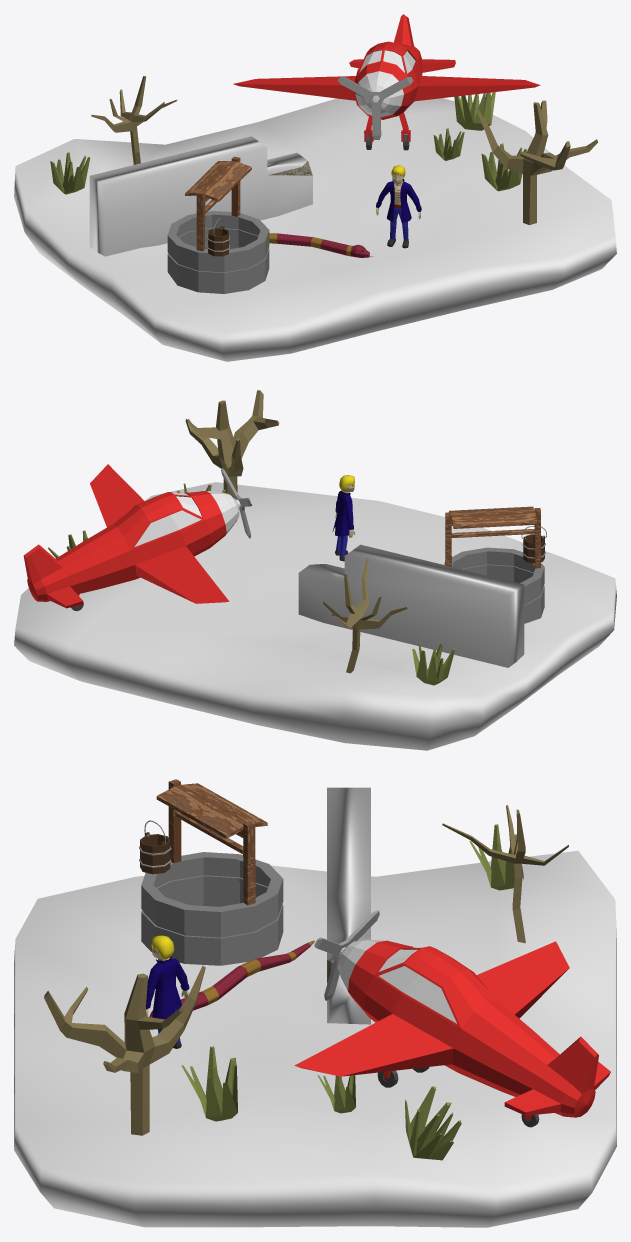
File: Wasteland.fbx
The picture shows the model from 3 angles, top to bottom: view 1: azimuth 30°, elevation 25°; view 2: azimuth 150°, elevation 25°; view 3: azimuth 270°, elevation 25°; orthographic projection. The views are drawn at different scales.
Parts seen in each view (by area): view 1: Cube.002, Plane, Cube.003, Cylinder.009, Circle.003, Cube.010, Cube.005, Cube.004, Cylinder.008, Cube.009, Cube, Cube.023 (+3 smaller); view 2: Cube.002, Plane, Cylinder.009, Cube.003, Circle.003, Cube.010, Cube.009, Cube.023; view 3: Cube.002, Cylinder.009, Cube.003, Plane, Circle.003, Cube.005, Cube, Cube.010, Cube.023, Cube.004, Circle.001, Cube.009 (+2 smaller).
Part boxes in pixels (x1=…): Cube.002: x1=14, y1=98, x2=616, y2=361; Plane: x1=89, y1=136, x2=312, y2=256; Cube.003: x1=167, y1=156, x2=269, y2=293; Cylinder.009: x1=233, y1=14, x2=540, y2=141; Circle.003: x1=476, y1=100, x2=597, y2=224; Cube.010: x1=91, y1=76, x2=177, y2=164; Cube.005: x1=454, y1=92, x2=495, y2=130; Cube.004: x1=269, y1=233, x2=373, y2=257; Cylinder.008: x1=338, y1=76, x2=413, y2=139; Cube.009: x1=50, y1=152, x2=90, y2=194; Cube: x1=481, y1=143, x2=526, y2=191; Cube.023: x1=376, y1=179, x2=421, y2=222; Cube.002: x1=14, y1=482, x2=616, y2=750; Plane: x1=298, y1=544, x2=524, y2=667; Cylinder.009: x1=23, y1=464, x2=240, y2=608; Cube.003: x1=444, y1=506, x2=544, y2=623; Circle.003: x1=185, y1=390, x2=279, y2=522; Cube.010: x1=323, y1=557, x2=407, y2=673; Cube.009: x1=412, y1=642, x2=455, y2=685; Cube.023: x1=332, y1=490, x2=353, y2=536; Cube.002: x1=14, y1=850, x2=616, y2=1227; Cylinder.009: x1=294, y1=940, x2=610, y2=1120; Cube.003: x1=141, y1=779, x2=283, y2=965; Plane: x1=327, y1=787, x2=370, y2=1024; Circle.003: x1=44, y1=965, x2=205, y2=1135; Cube.005: x1=405, y1=1086, x2=461, y2=1160; Cube: x1=181, y1=1046, x2=237, y2=1121; Cube.010: x1=442, y1=805, x2=568, y2=943; Cube.023: x1=145, y1=956, x2=189, y2=1019; Cube.004: x1=149, y1=940, x2=314, y2=1017; Circle.001: x1=139, y1=820, x2=171, y2=874; Cube.009: x1=469, y1=824, x2=516, y2=890.
Bounding box in the file's own units: 824 × 323 × 673.
Materials: 35 (2 with a texture image).
